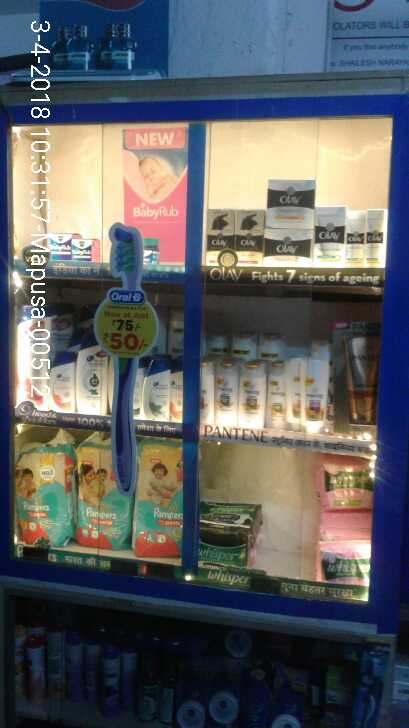vicks: (44, 234, 103, 267), (140, 241, 161, 261)
